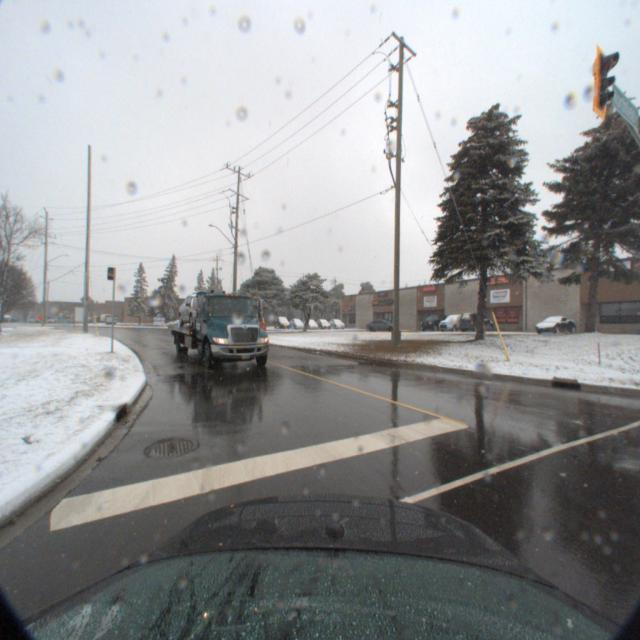Car: (535, 312, 583, 334), (459, 309, 497, 330), (437, 310, 473, 330), (363, 312, 399, 328), (272, 309, 290, 324), (288, 312, 305, 324)
Truck: (154, 265, 280, 372)
